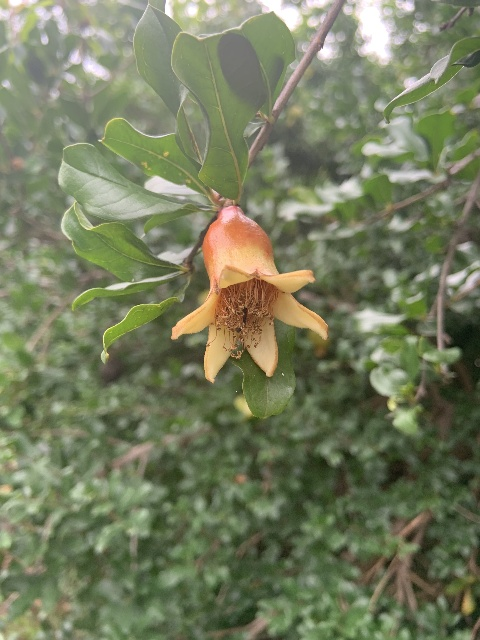early-fruit: (169, 206, 329, 382)
